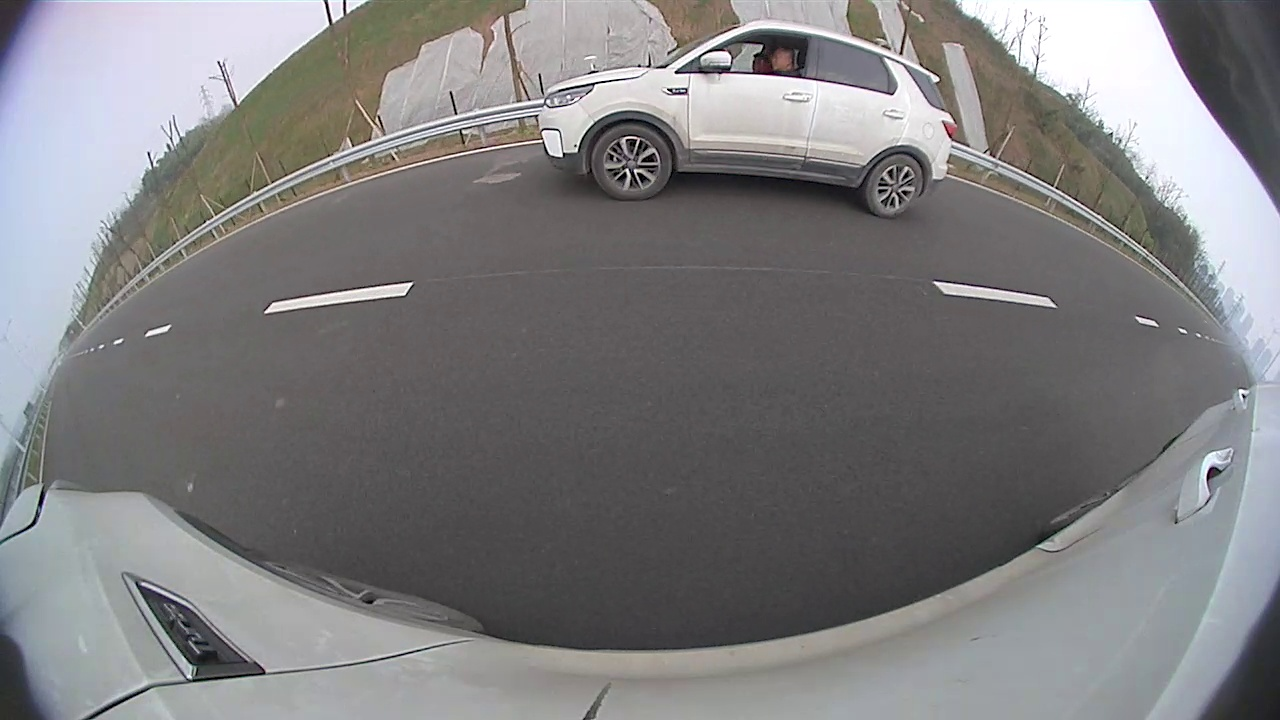car: (538, 20, 958, 217)
front: (589, 124, 671, 202)
rear: (867, 155, 926, 217)
